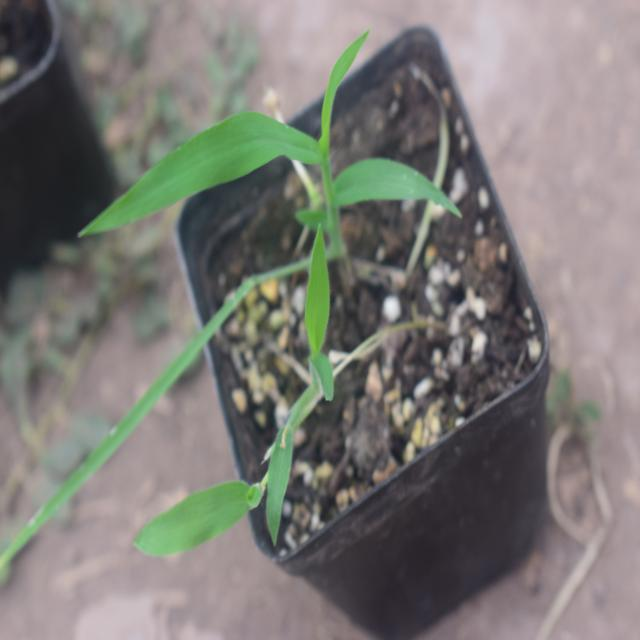crabgrass: (94, 49, 452, 260)
